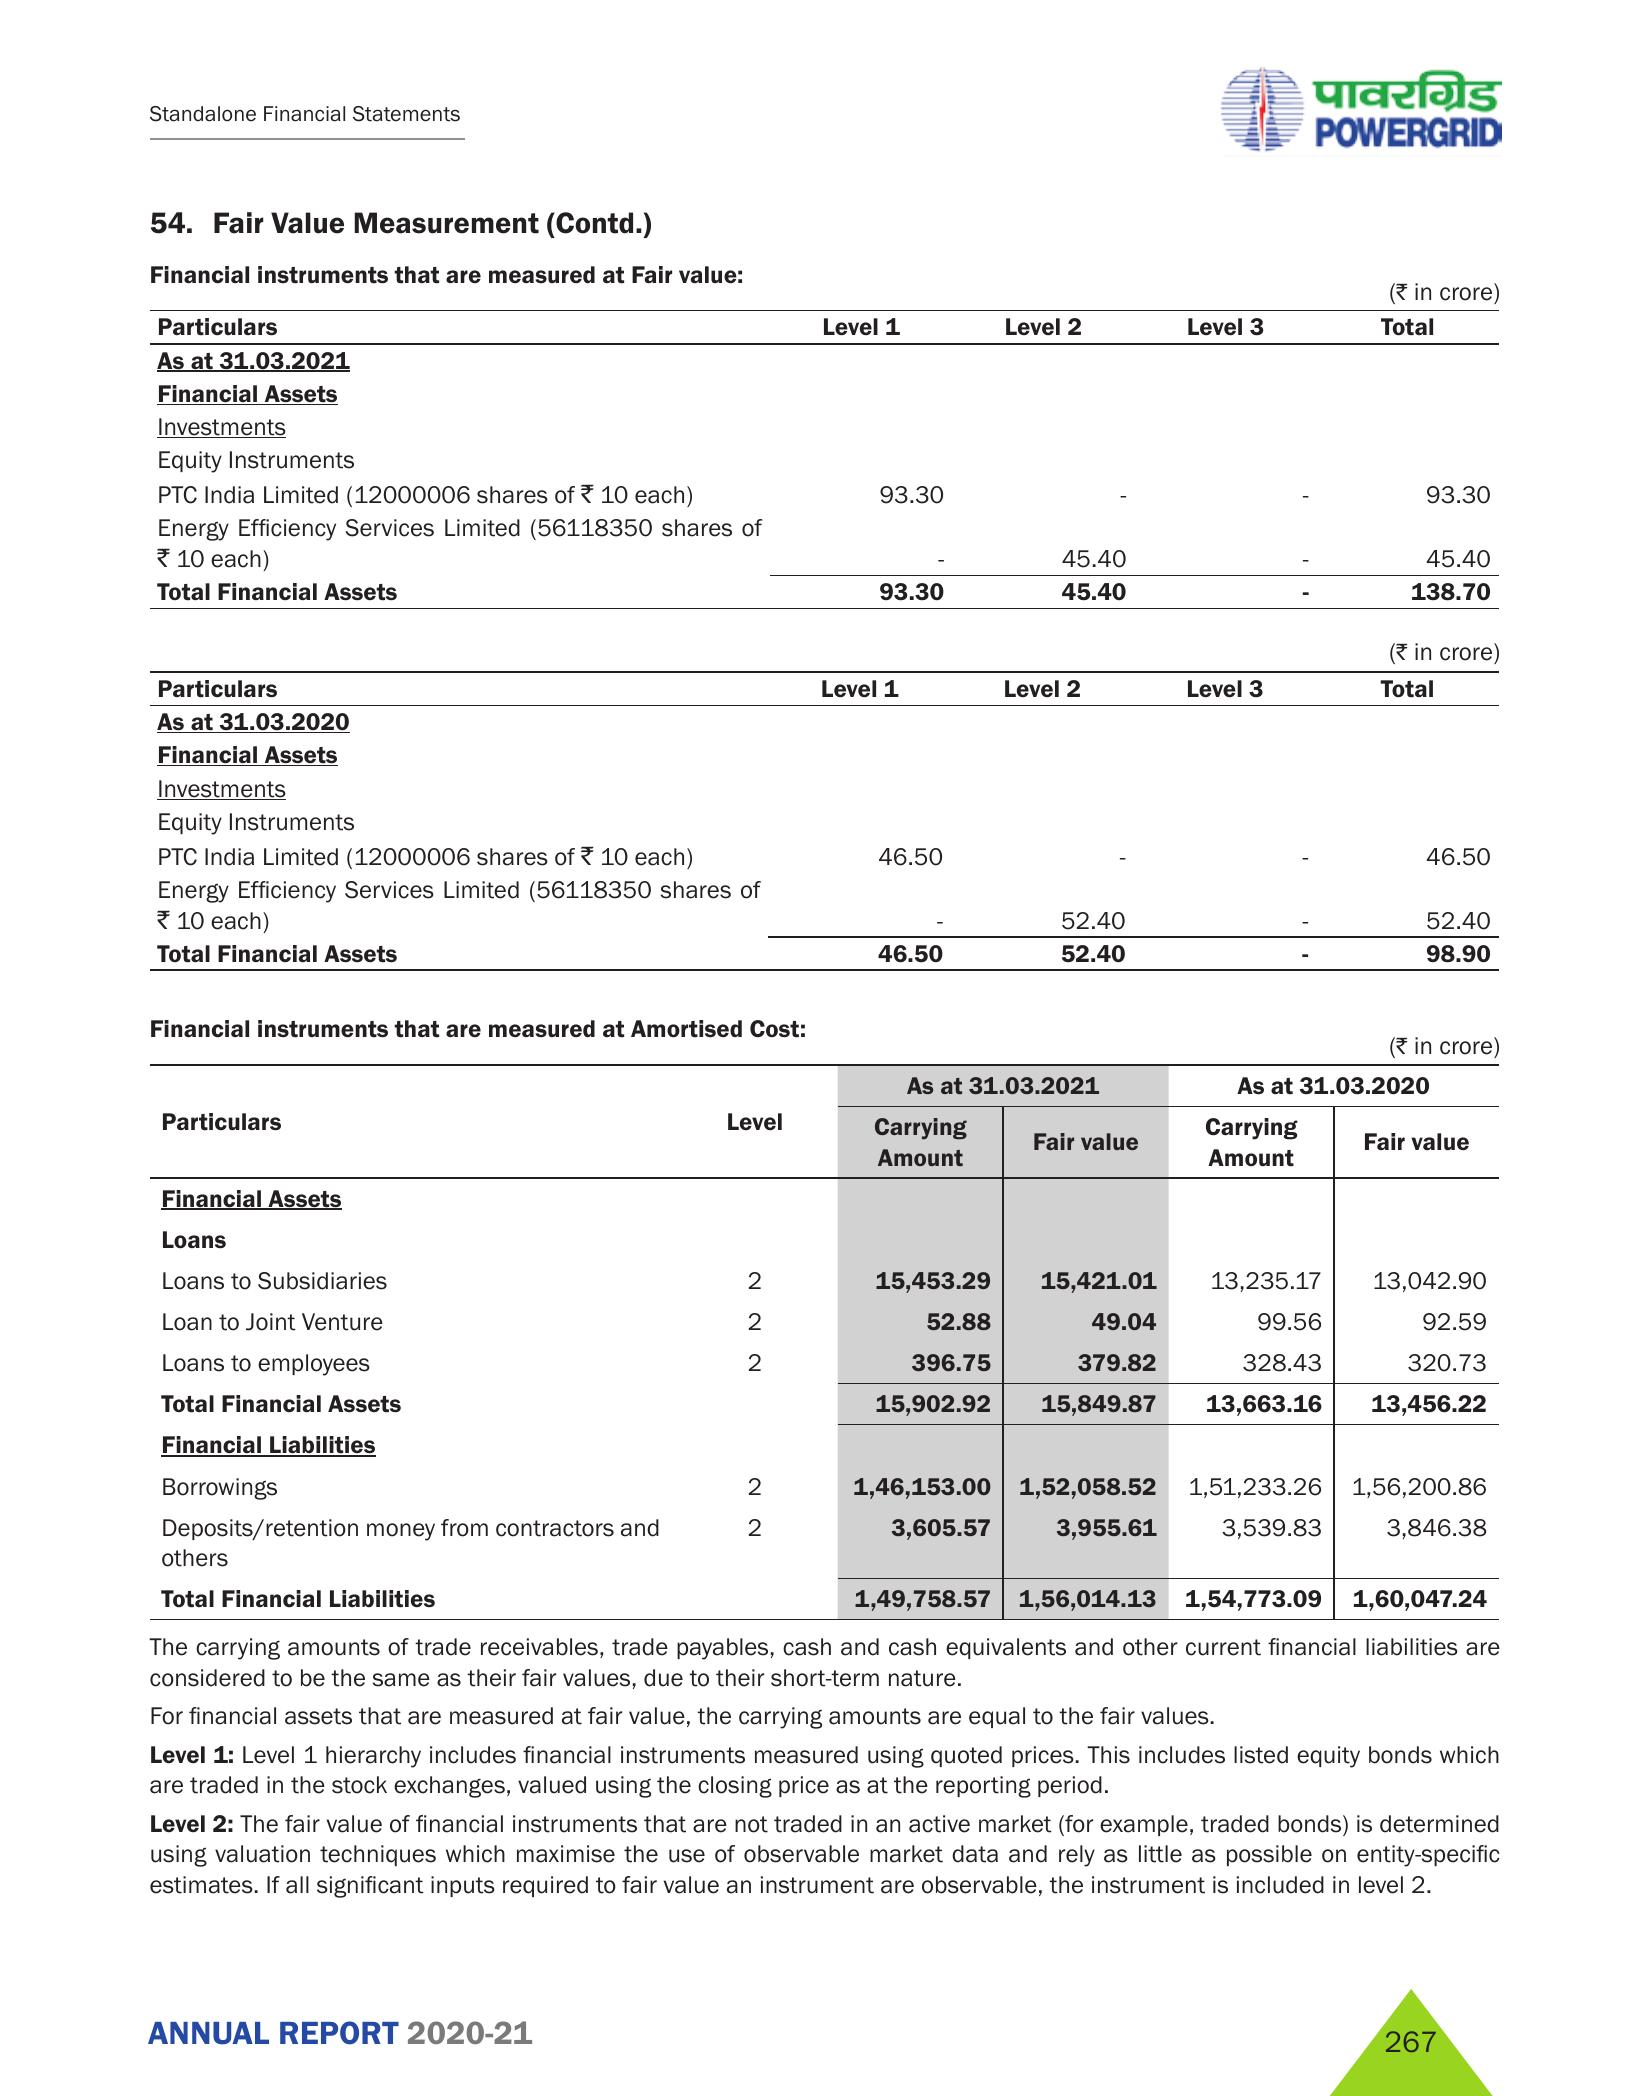Footer: (0, 1968, 1650, 2096)
Header: (0, 0, 1650, 168)
Table: (111, 306, 1551, 971), (126, 1058, 1516, 1615)
